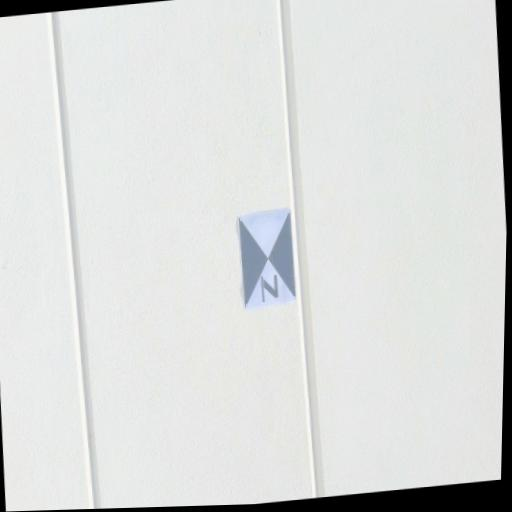target7: (238, 206, 297, 309)
